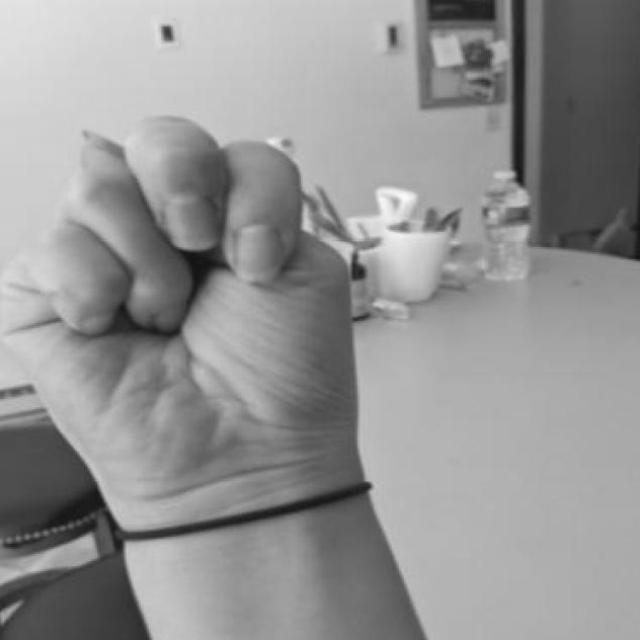N: (0, 96, 386, 547)
